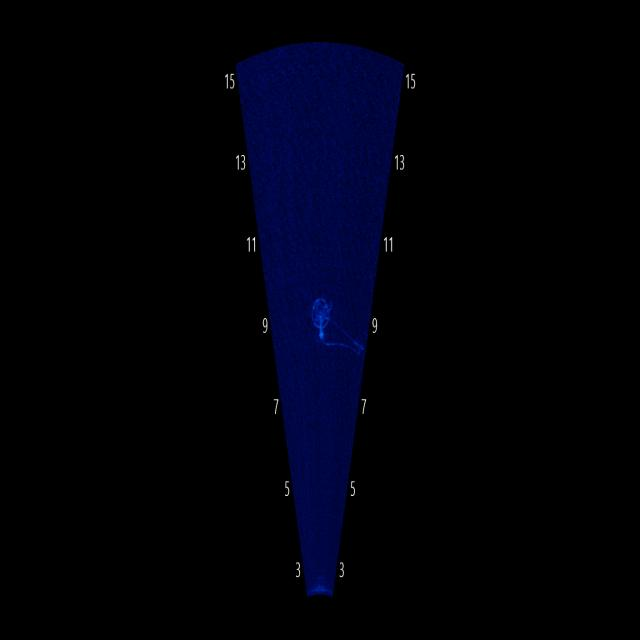circle: (301, 263, 342, 345)
